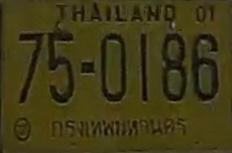0: (100, 32, 126, 101)
1: (140, 32, 148, 102)
5: (47, 29, 74, 103)
6: (191, 33, 218, 101)
7: (18, 32, 44, 103)
8: (160, 32, 186, 101)
BKK: (49, 112, 193, 145)
